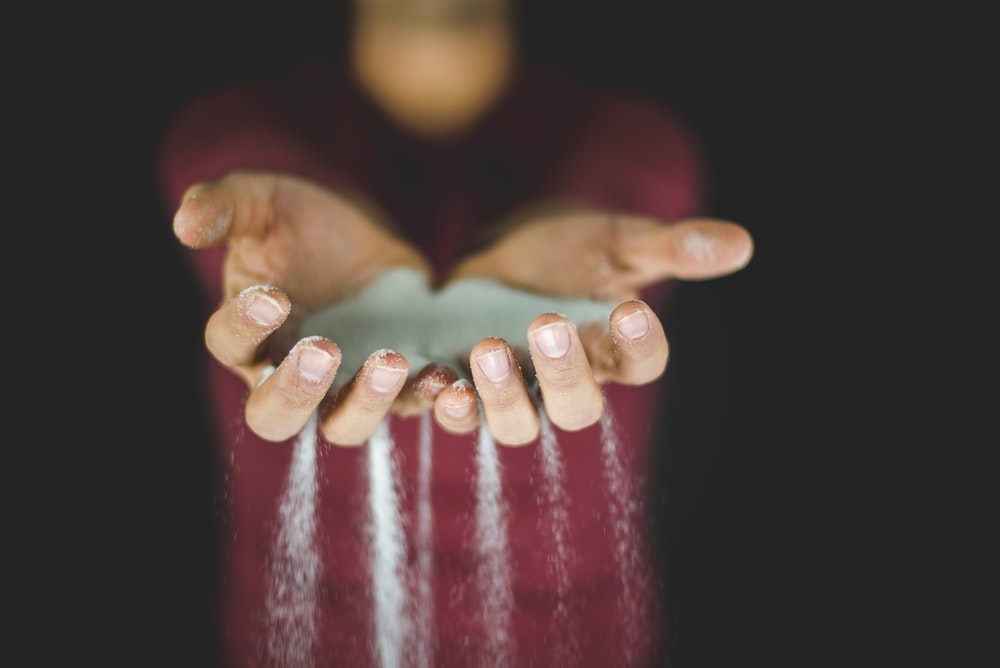palm: (215, 178, 397, 361), (466, 218, 627, 401)
